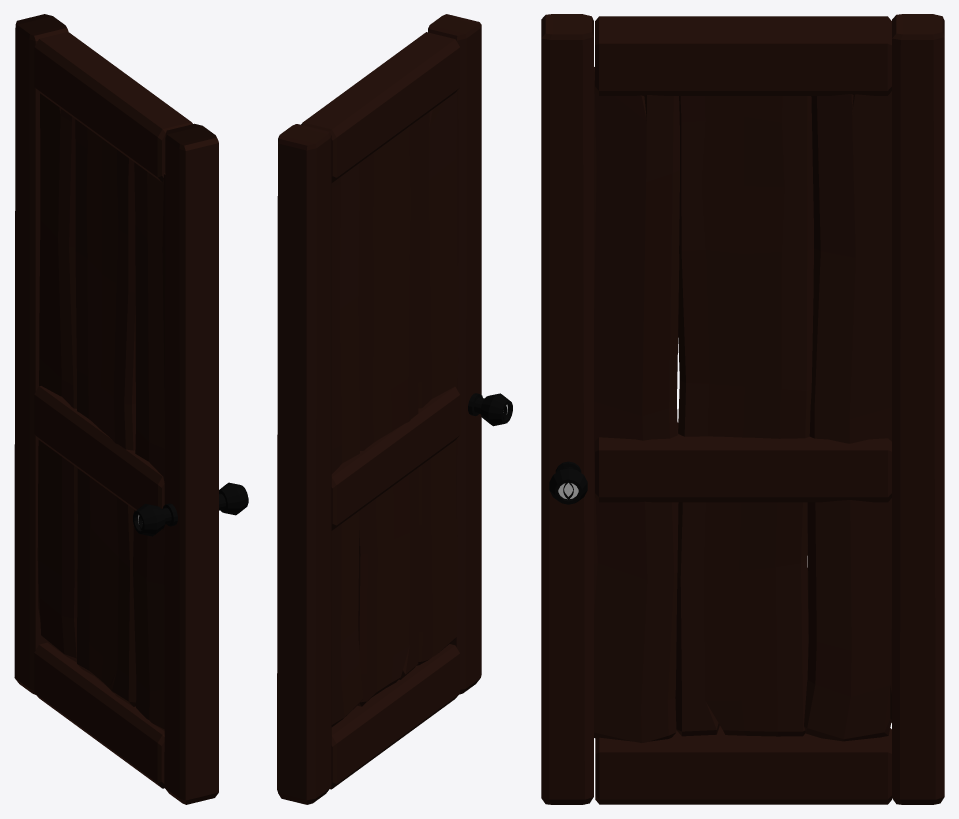
Rendered from Door2.fbx.
3 views of the same model, side by side, from view 1: azimuth 30°, elevation 25°; view 2: azimuth 150°, elevation 25°; view 3: azimuth 270°, elevation 25° (orthographic). The views are drawn at different scales.
Visible parts, largest first — view 1: DoorFrame012, DoorCenter002, Knob002, knob002; view 2: DoorFrame012, DoorCenter002, Knob002; view 3: DoorCenter002, DoorFrame012, knob002.
Boxes of the visible parts, x1,y1,x2,y2 form: DoorFrame012: (14, 14, 218, 804); DoorCenter002: (37, 93, 165, 730); Knob002: (133, 503, 177, 536); knob002: (219, 482, 248, 515); DoorFrame012: (277, 14, 481, 804); DoorCenter002: (331, 90, 458, 726); Knob002: (468, 393, 512, 426); DoorCenter002: (594, 67, 891, 742); DoorFrame012: (541, 14, 944, 804); knob002: (549, 461, 587, 504).
Bounding box in the file's own units: 84.6 × 509 × 241.
